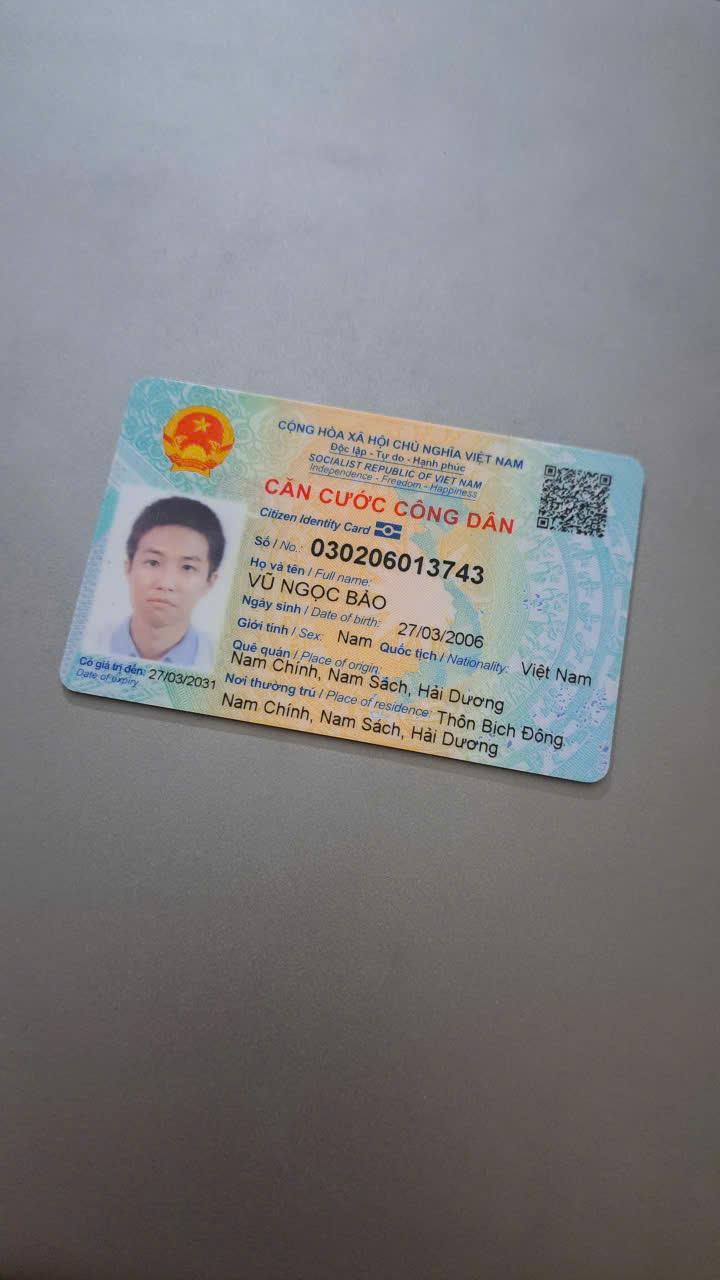cccd: (48, 365, 655, 797)
